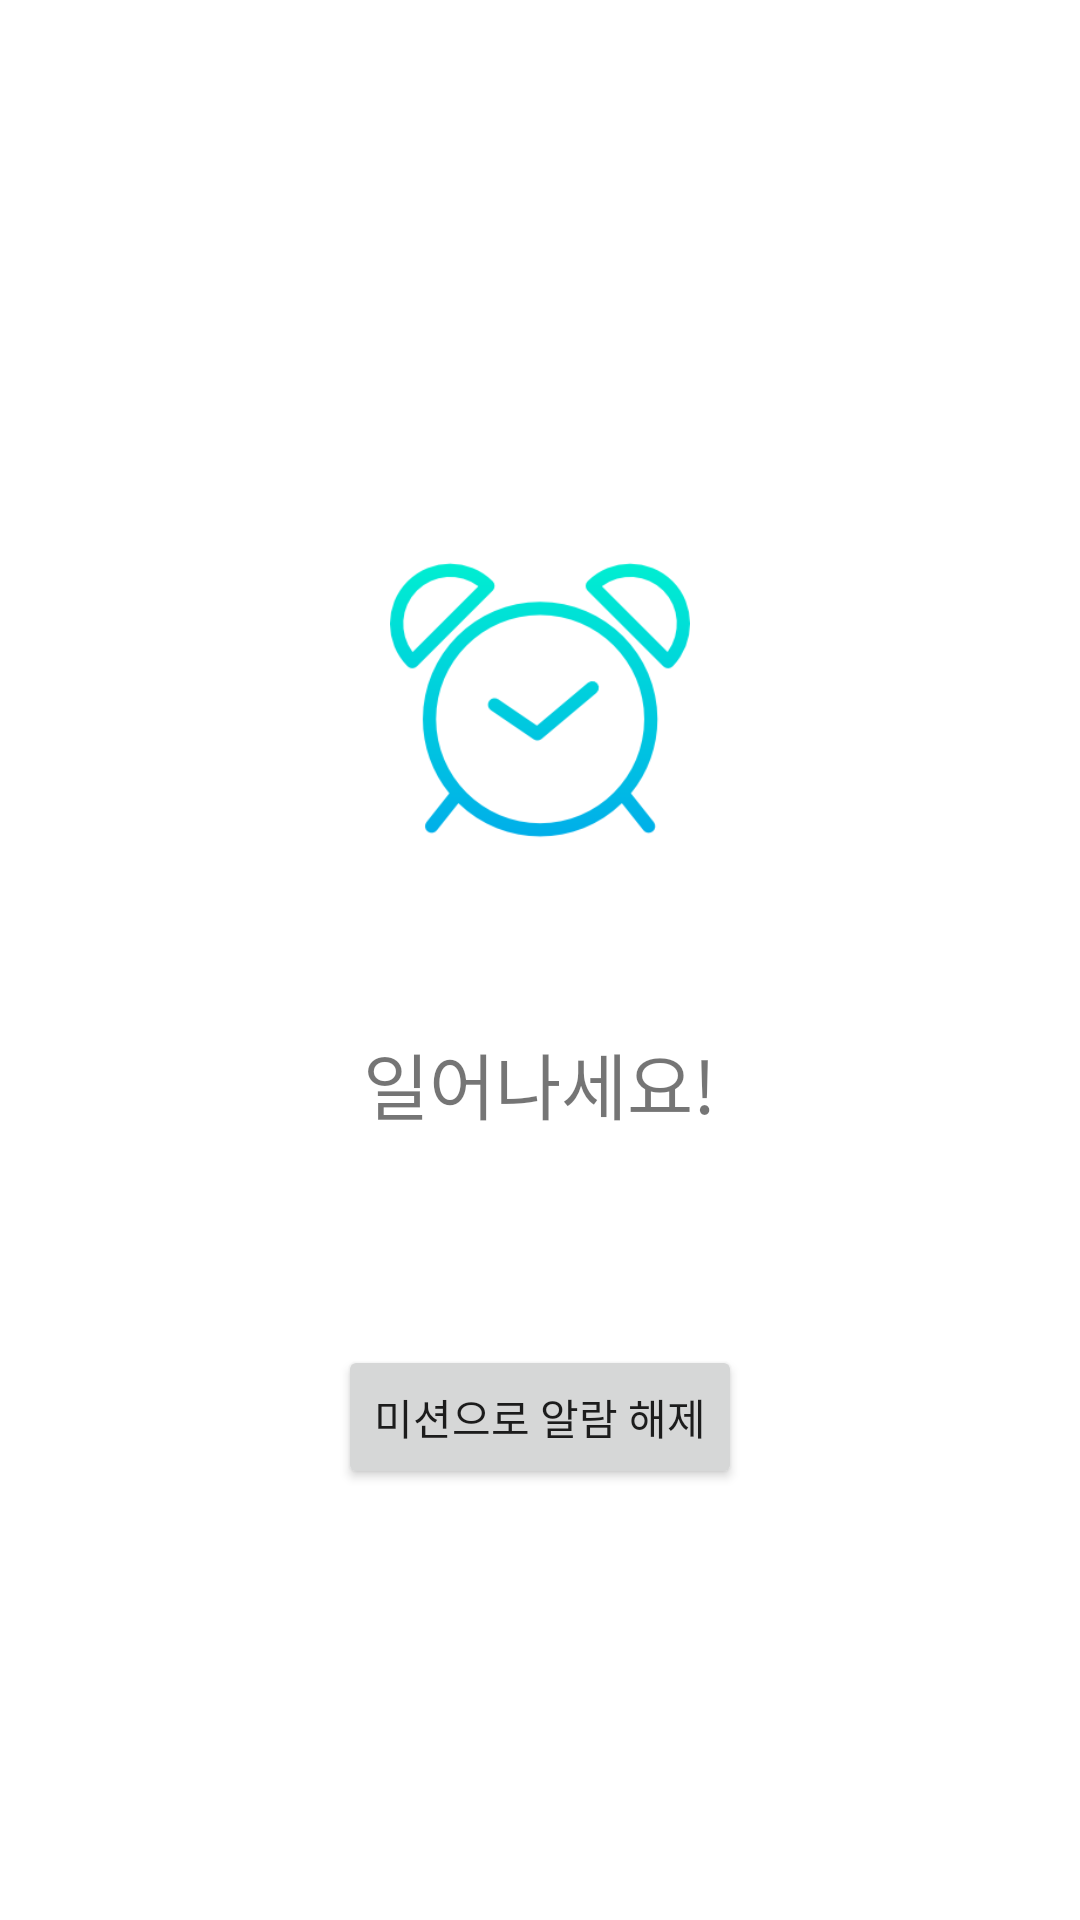

Named icons in this screenshot (1080×1920) and their centers, (x,y):
alarm clock: (540,700)
